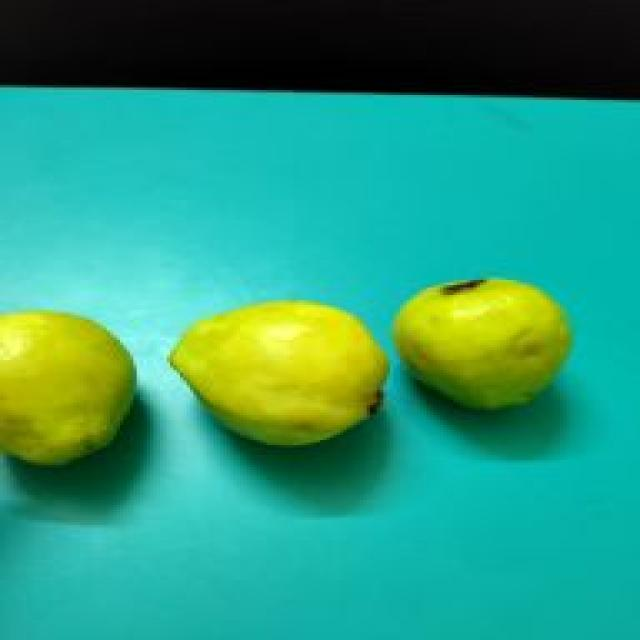Good_Guava: (167, 300, 390, 450), (393, 278, 573, 415)
